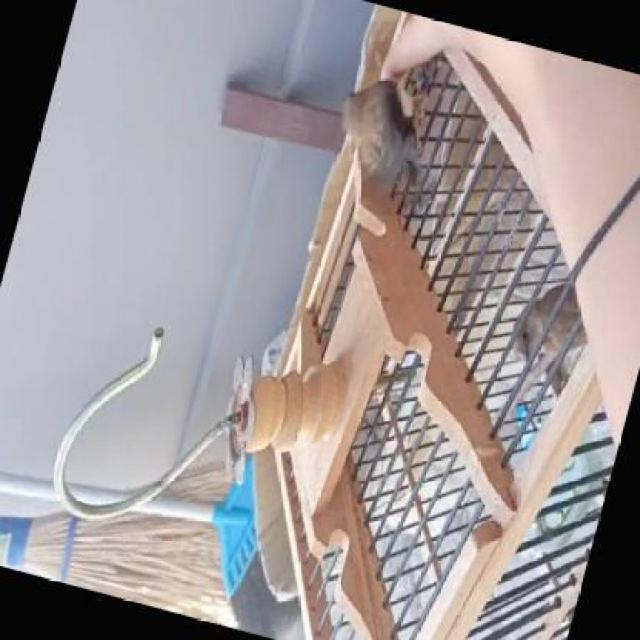Bird: (498, 280, 604, 409), (306, 75, 438, 177)
